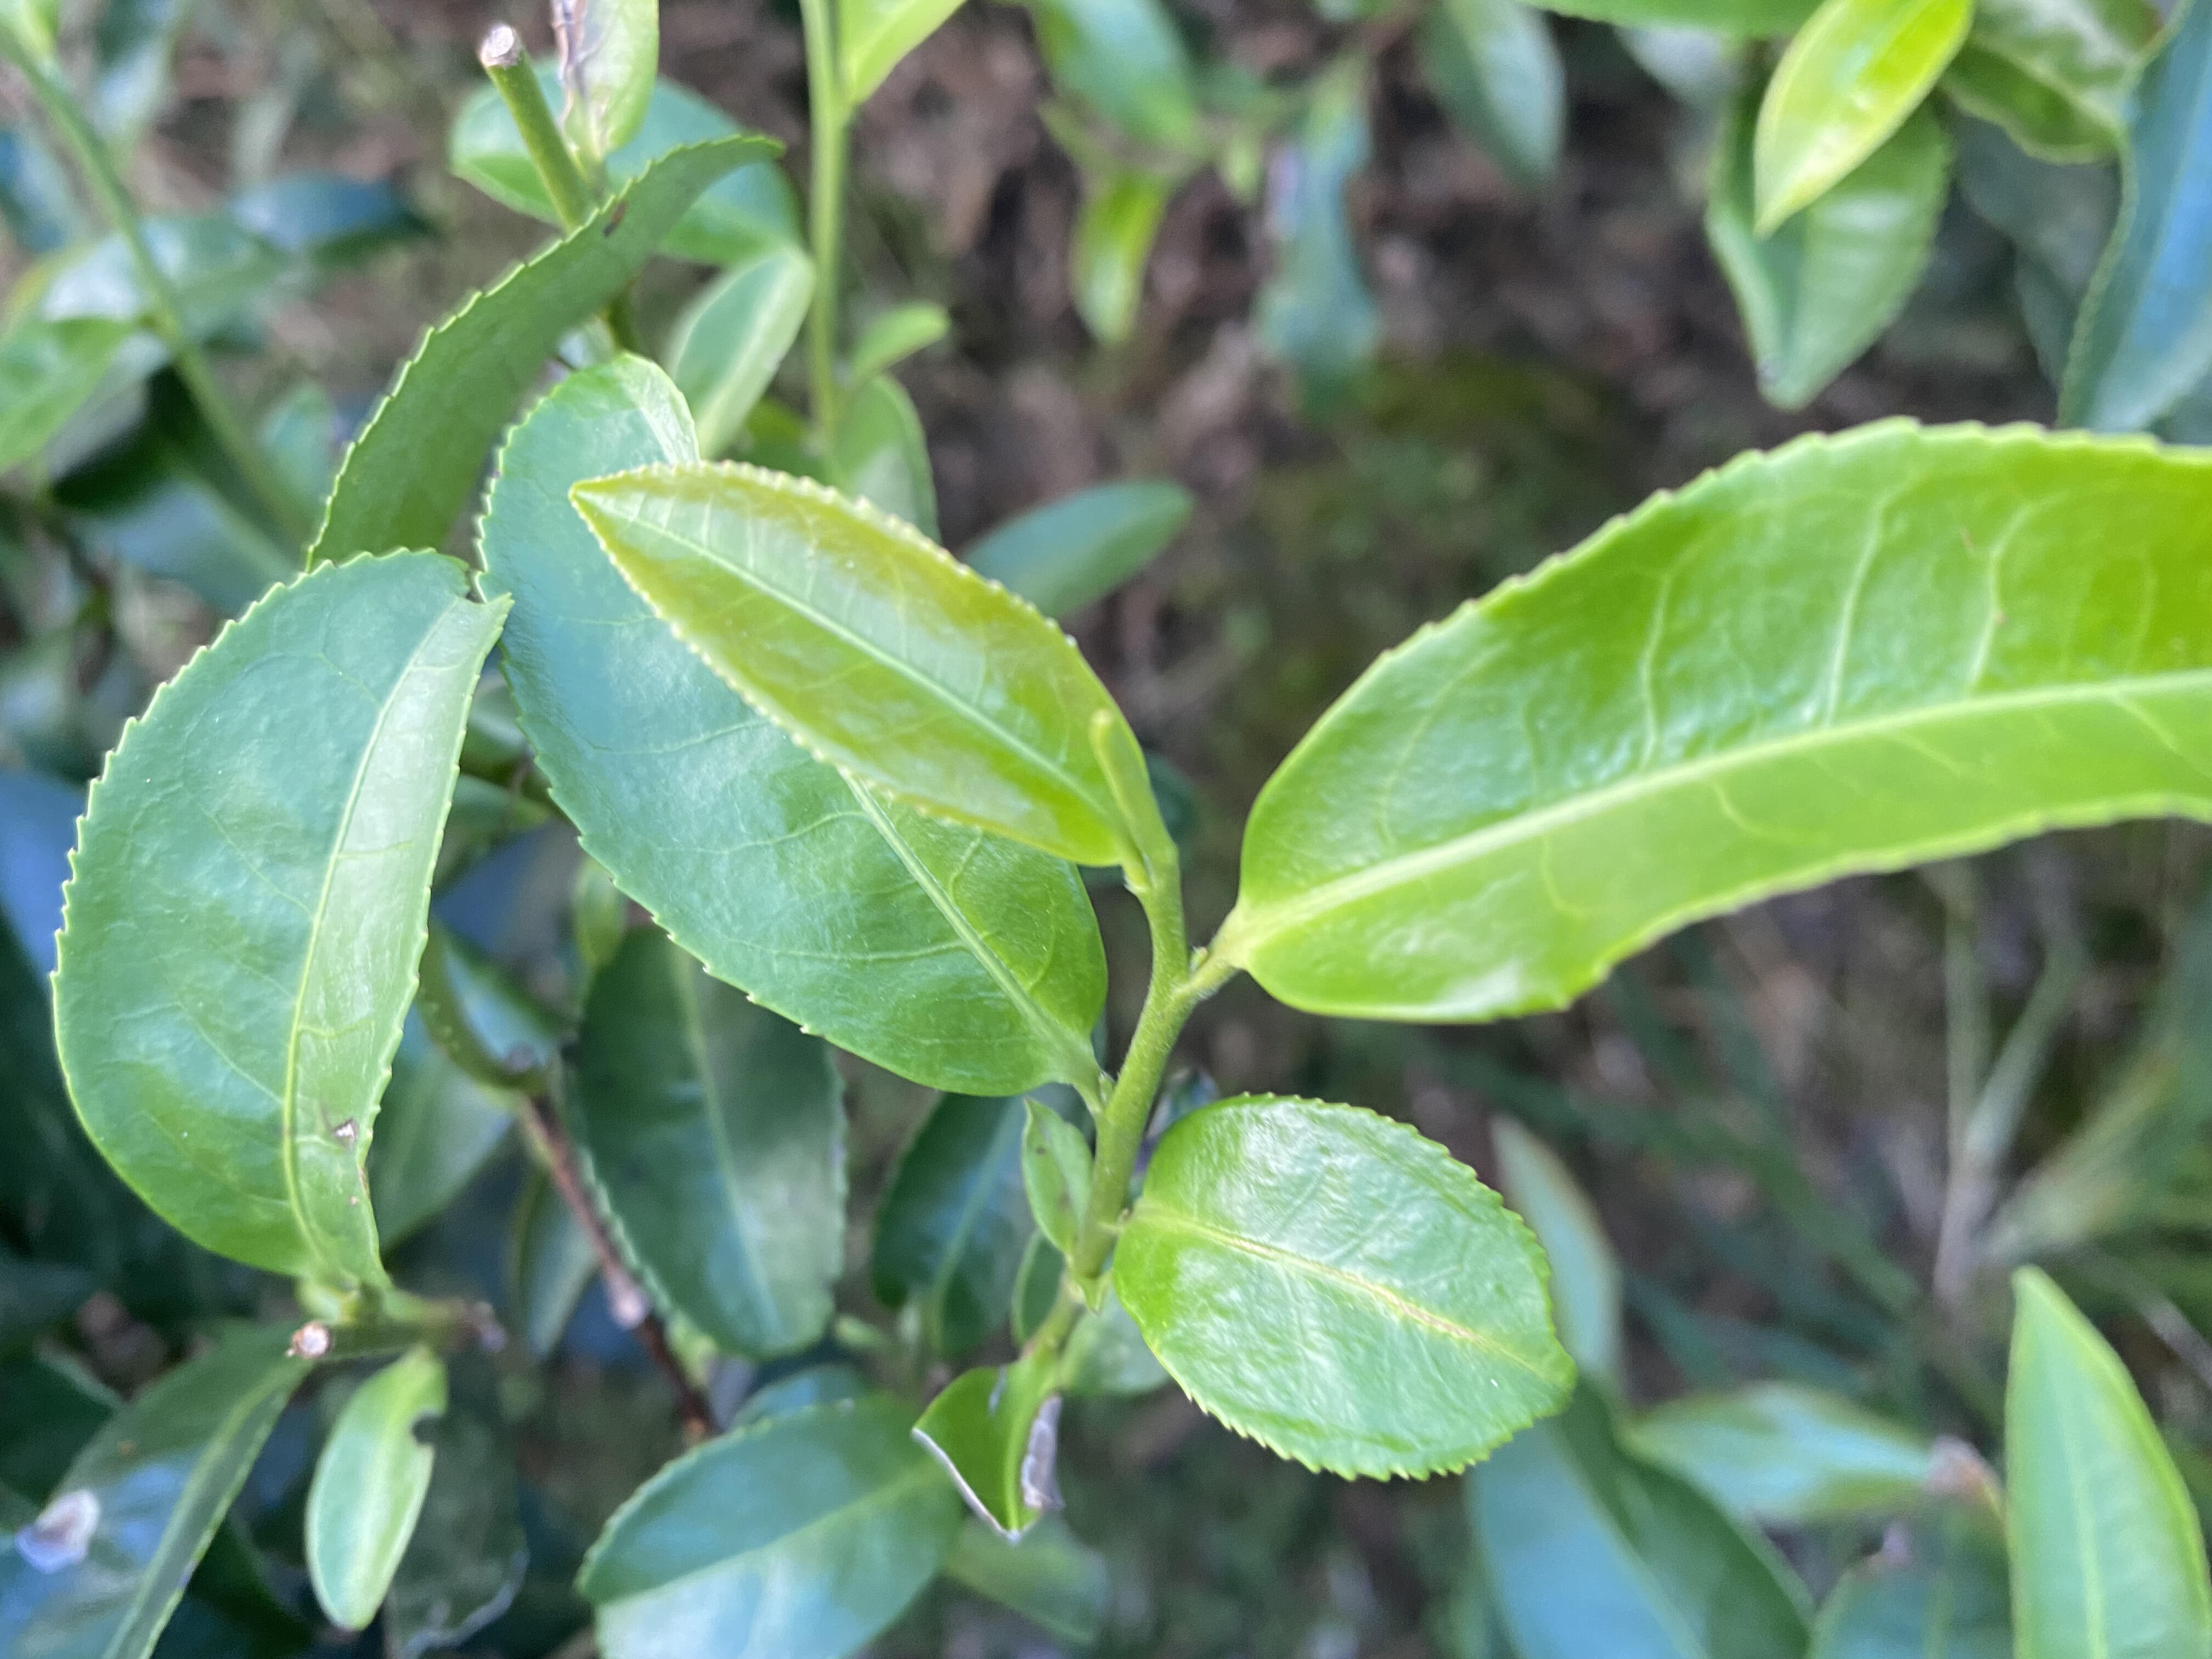chihuo_high: (909, 1349, 1082, 1544)
chihuo_low: (289, 1345, 449, 1635)
healthy: (1237, 415, 2212, 1026), (1113, 1086, 1580, 1485)
tanju_high: (9, 1328, 320, 1657)
tanju_low: (47, 544, 512, 1290), (570, 458, 1155, 871)
